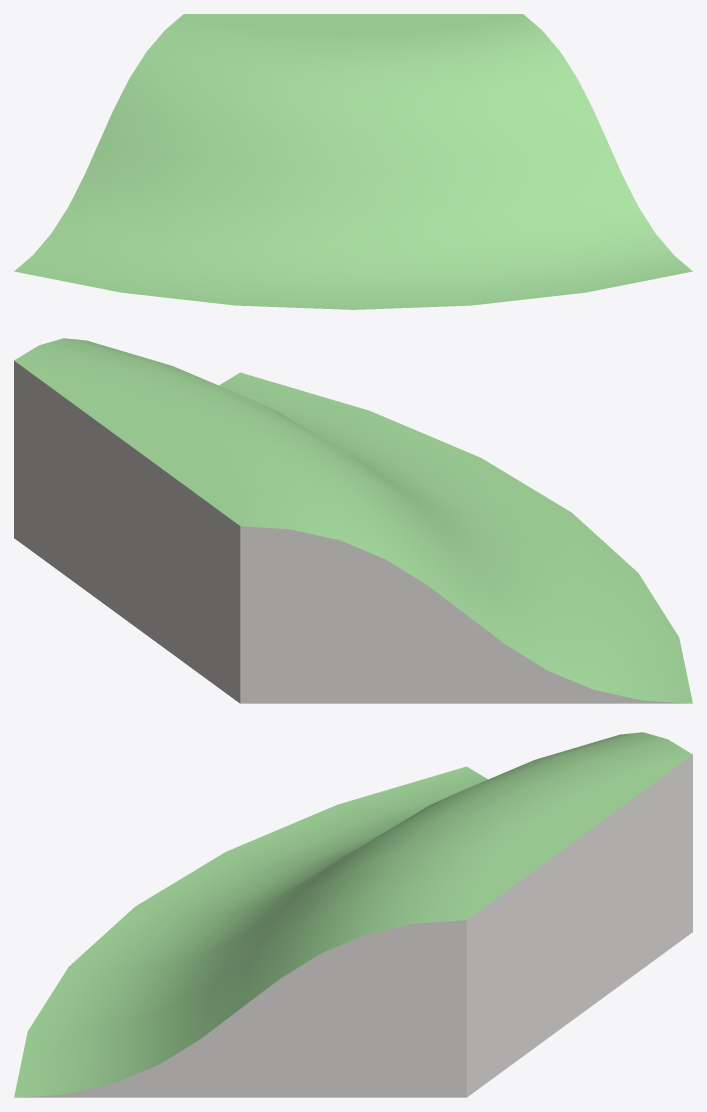
Rendered from Terrain_Grass_Hill_Curve_Outer_Gentle.glb.
3 renders of one model, top to bottom at view 1: azimuth 30°, elevation 25°; view 2: azimuth 150°, elevation 25°; view 3: azimuth 270°, elevation 25°, orthographic. The views are drawn at different scales.
Visible parts, largest first — view 1: object1; view 2: object1; view 3: object1.
Part boxes in pixels (x1=…): object1: x1=14, y1=14, x2=692, y2=309; object1: x1=14, y1=338, x2=692, y2=703; object1: x1=14, y1=732, x2=692, y2=1097.
Size of the model in its own units: 1 by 0.25 by 0.866.
